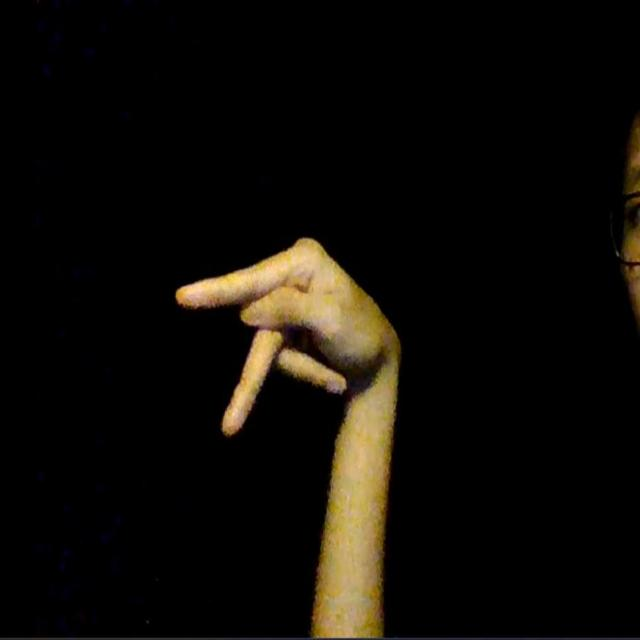P: (176, 236, 403, 436)
